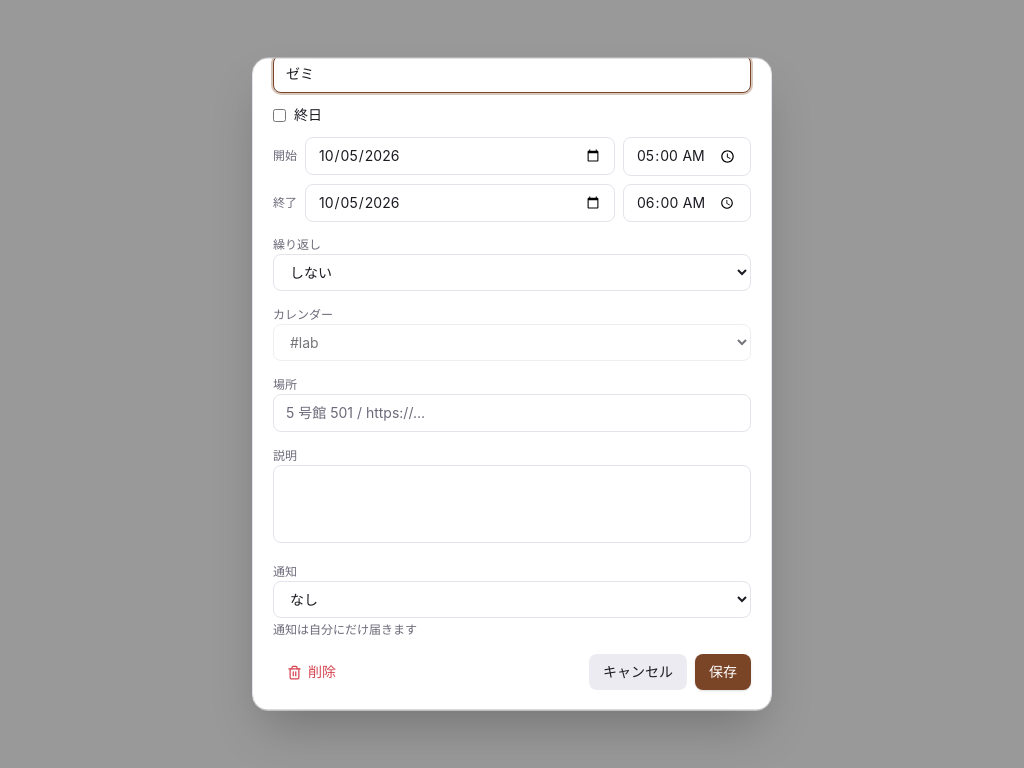
Test: the event dialog › shows the server's refusal in Japanese
The width and height of the screenshot is (1024, 768).
(page scrolled)
Click the button "保存" at point(723, 672), box [695,654,751,690]
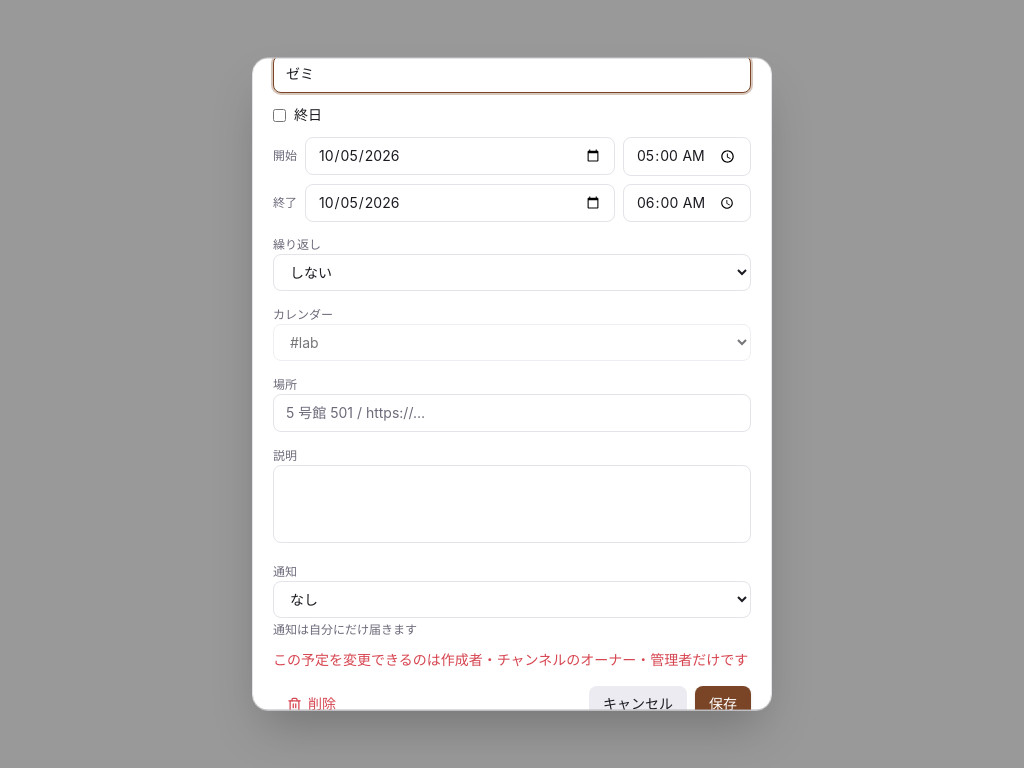
Check: the message reads "この予定を変更できるのは作成者・チャンネルのオーナー・管理者だけです", box [273,651,748,668]
